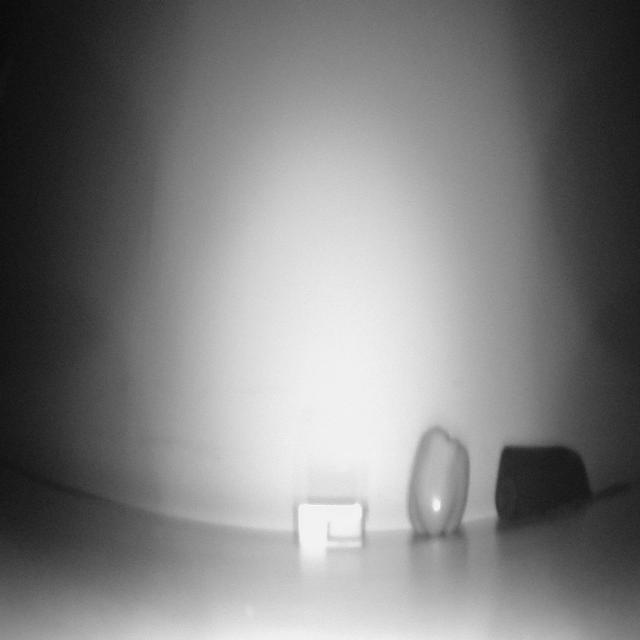targets: (493, 441, 596, 532), (406, 426, 470, 541), (294, 502, 364, 562)
